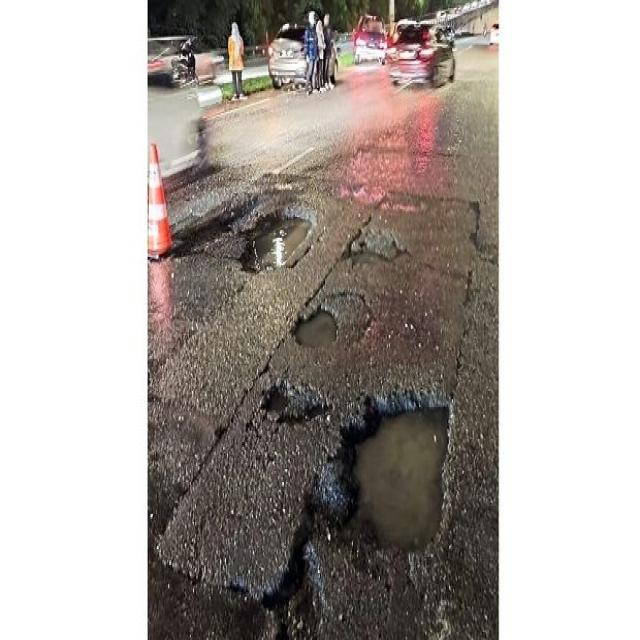Pothole: (262, 393, 451, 640), (239, 214, 312, 271), (263, 381, 330, 426), (173, 209, 232, 257), (295, 310, 339, 348)
